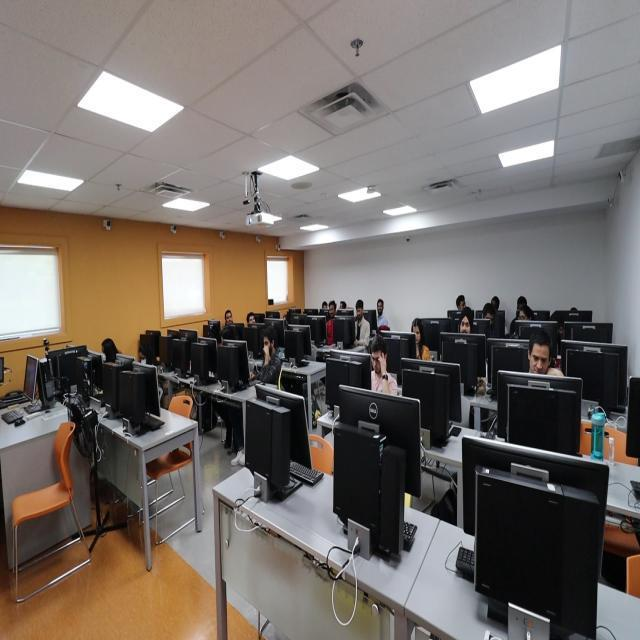Looking away: (528, 341, 550, 376), (370, 346, 385, 374), (263, 336, 272, 354), (412, 326, 420, 344), (458, 300, 466, 312), (356, 306, 362, 320)
Looking forward: (460, 315, 470, 335), (328, 304, 336, 318), (225, 313, 232, 324), (248, 314, 255, 324), (378, 302, 383, 314)
